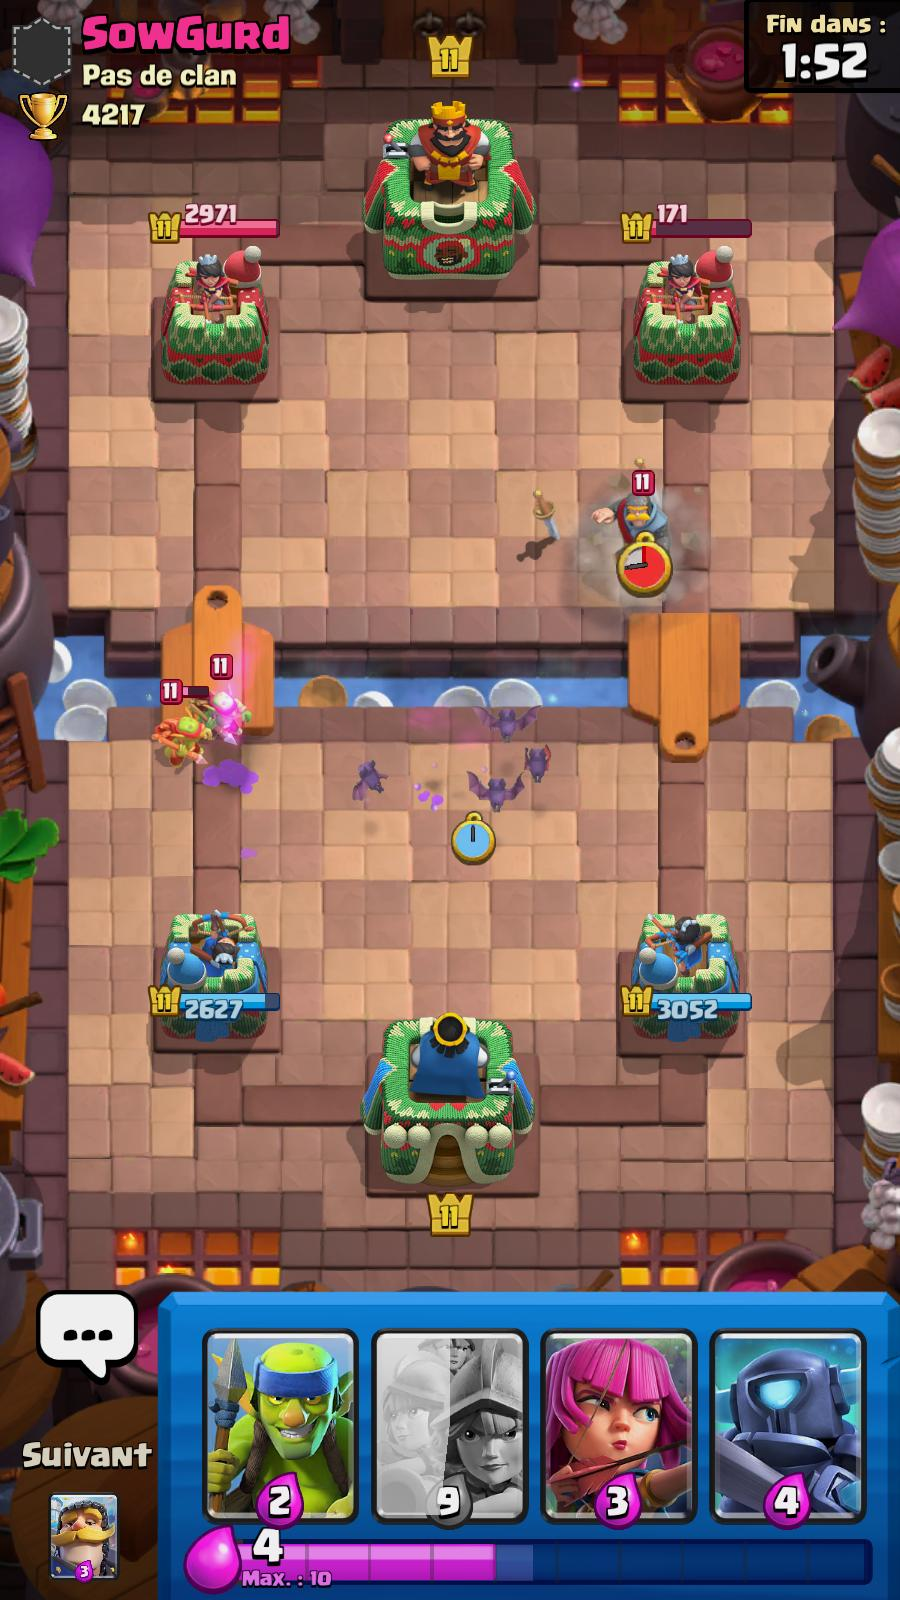bat: (470, 700, 542, 737), (464, 771, 530, 811), (351, 762, 388, 798), (525, 742, 552, 785)
chevalier: (591, 468, 675, 556)
gobelin_lances: (185, 652, 254, 745), (151, 679, 210, 765)
